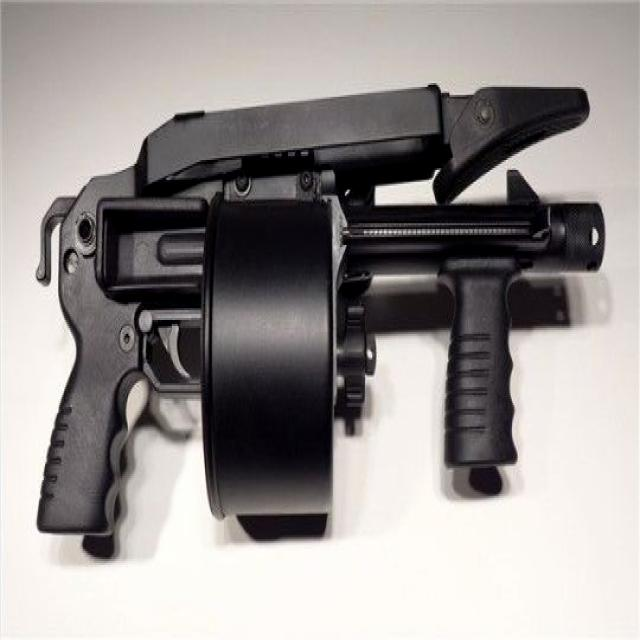shotgun: (7, 50, 636, 566)
